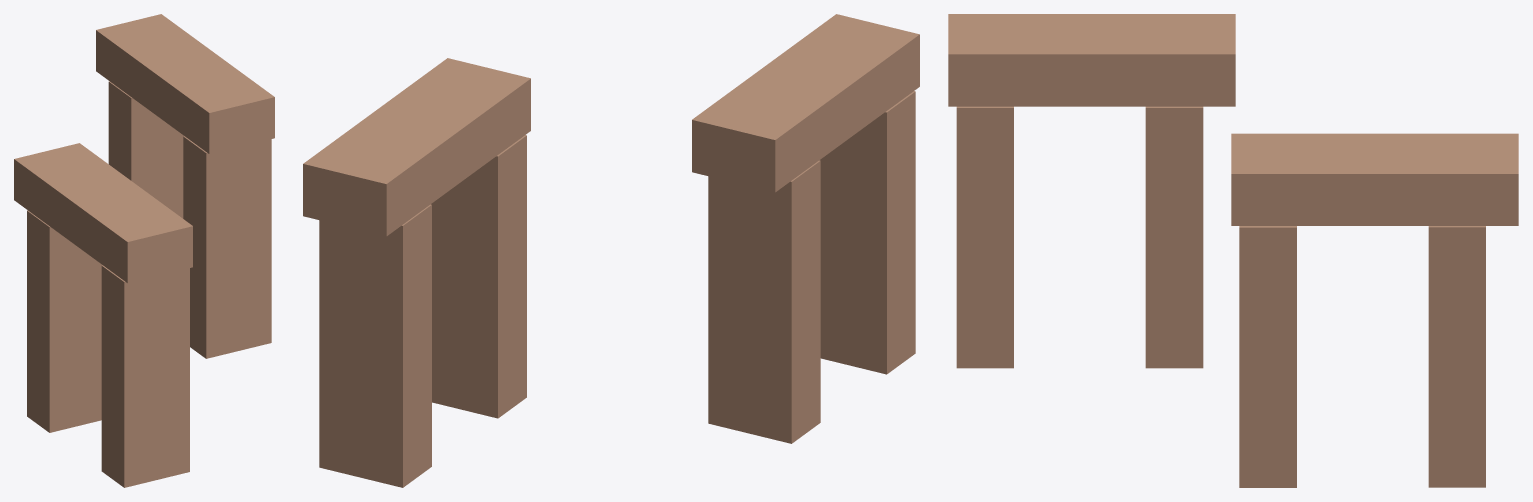
The picture shows the model from 3 angles, left to right: view 1: azimuth 30°, elevation 25°; view 2: azimuth 150°, elevation 25°; view 3: azimuth 270°, elevation 25°; orthographic projection. The views are drawn at different scales.
Visible parts, largest first — view 1: base (×6); view 2: base (×6); view 3: base (×6).
Boxes of the visible parts, x1,y1,x2,y2 form: base (×6): [14, 14, 274, 487]; base (×6): [303, 14, 919, 487]; base (×6): [948, 14, 1518, 487].
Bounding box in the file's own units: 0.2008 × 0.3024 × 0.1838.
